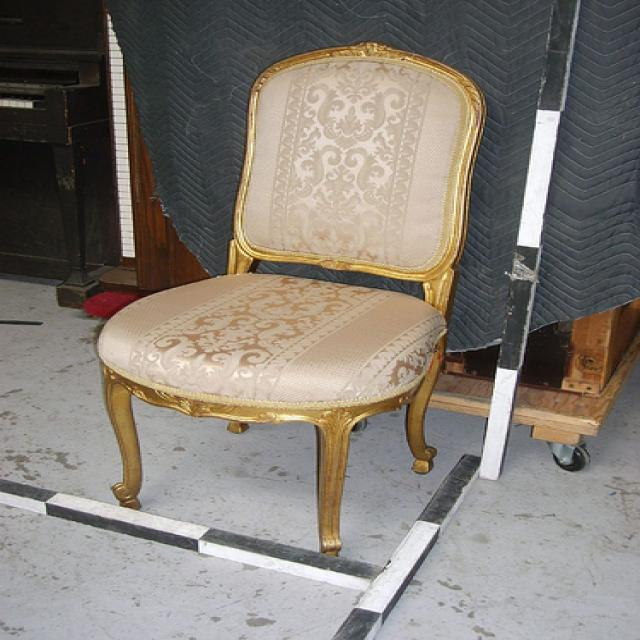chair: (94, 39, 486, 556)
